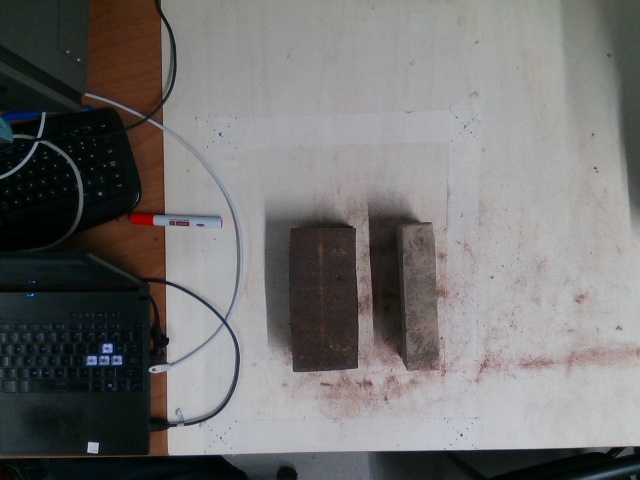brick: (291, 229, 359, 371)
brick-side: (405, 226, 437, 370)
